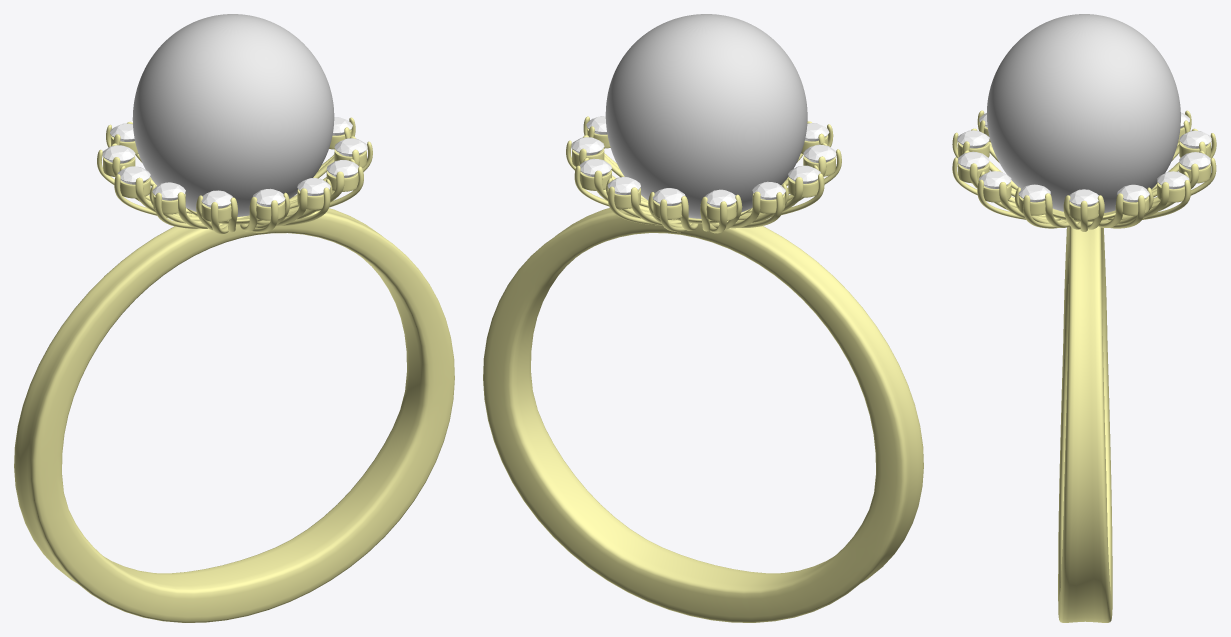
The model's file is Ring.gltf.
The picture shows the model from 3 angles, left to right: view 1: azimuth 30°, elevation 25°; view 2: azimuth 150°, elevation 25°; view 3: azimuth 270°, elevation 25°; orthographic projection. The views are drawn at different scales.
Visible parts, largest first — view 1: Circle, Sphere, Plane.003, dobj; view 2: Circle, Sphere, Plane.003, dobj; view 3: Sphere, Circle, Plane.003, dobj.
Boxes of the visible parts, box(x1,y1,x2,y2) form: Circle: box(14, 208, 454, 622); Sphere: box(132, 14, 334, 216); Plane.003: box(97, 117, 372, 234); dobj: box(102, 117, 367, 208); Circle: box(483, 208, 923, 622); Sphere: box(605, 14, 807, 218); Plane.003: box(566, 116, 841, 233); dobj: box(571, 116, 836, 207); Sphere: box(986, 14, 1180, 212); Circle: box(1058, 222, 1112, 622); Plane.003: box(952, 110, 1216, 231); dobj: box(957, 112, 1211, 206).
Size of the model in its own units: 23.77 by 31.43 by 13.15.
